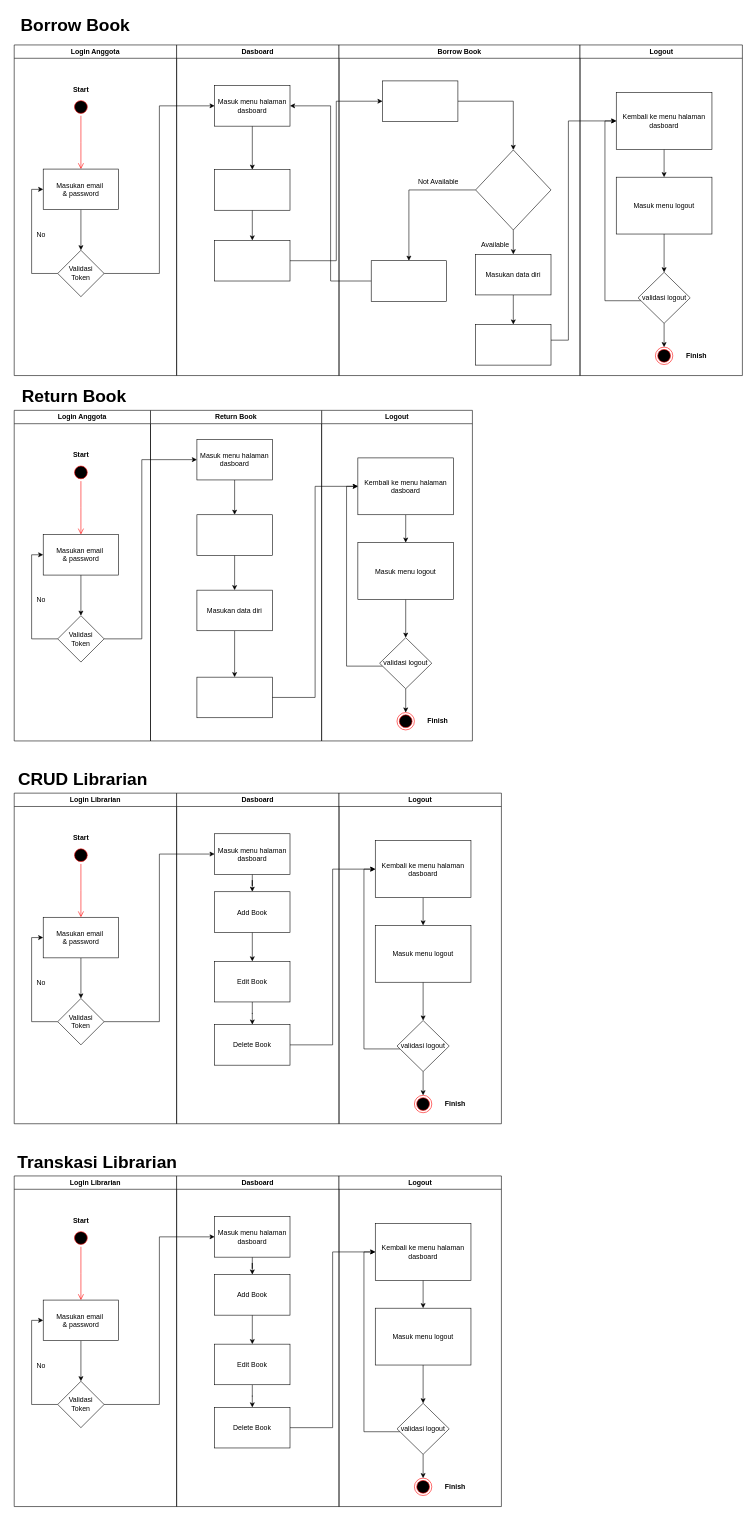
Image size: 753x1517. Some labels were removed from this diagram. The shapes that lost their labels are listed below. From the top down, each one's centre as x and y in pixels, then its label:
(x=420, y=101): Pinjam Buku
(x=252, y=189): Search Buku
(x=513, y=189): Stock Available / Not Available
(x=252, y=260): View Buku
(x=409, y=280): Masukan ke wishlist
(x=513, y=344): Tampil book report peminjaman
(x=234, y=534): Menu kembalikan buku
(x=234, y=697): Tampil book report pengembalian
